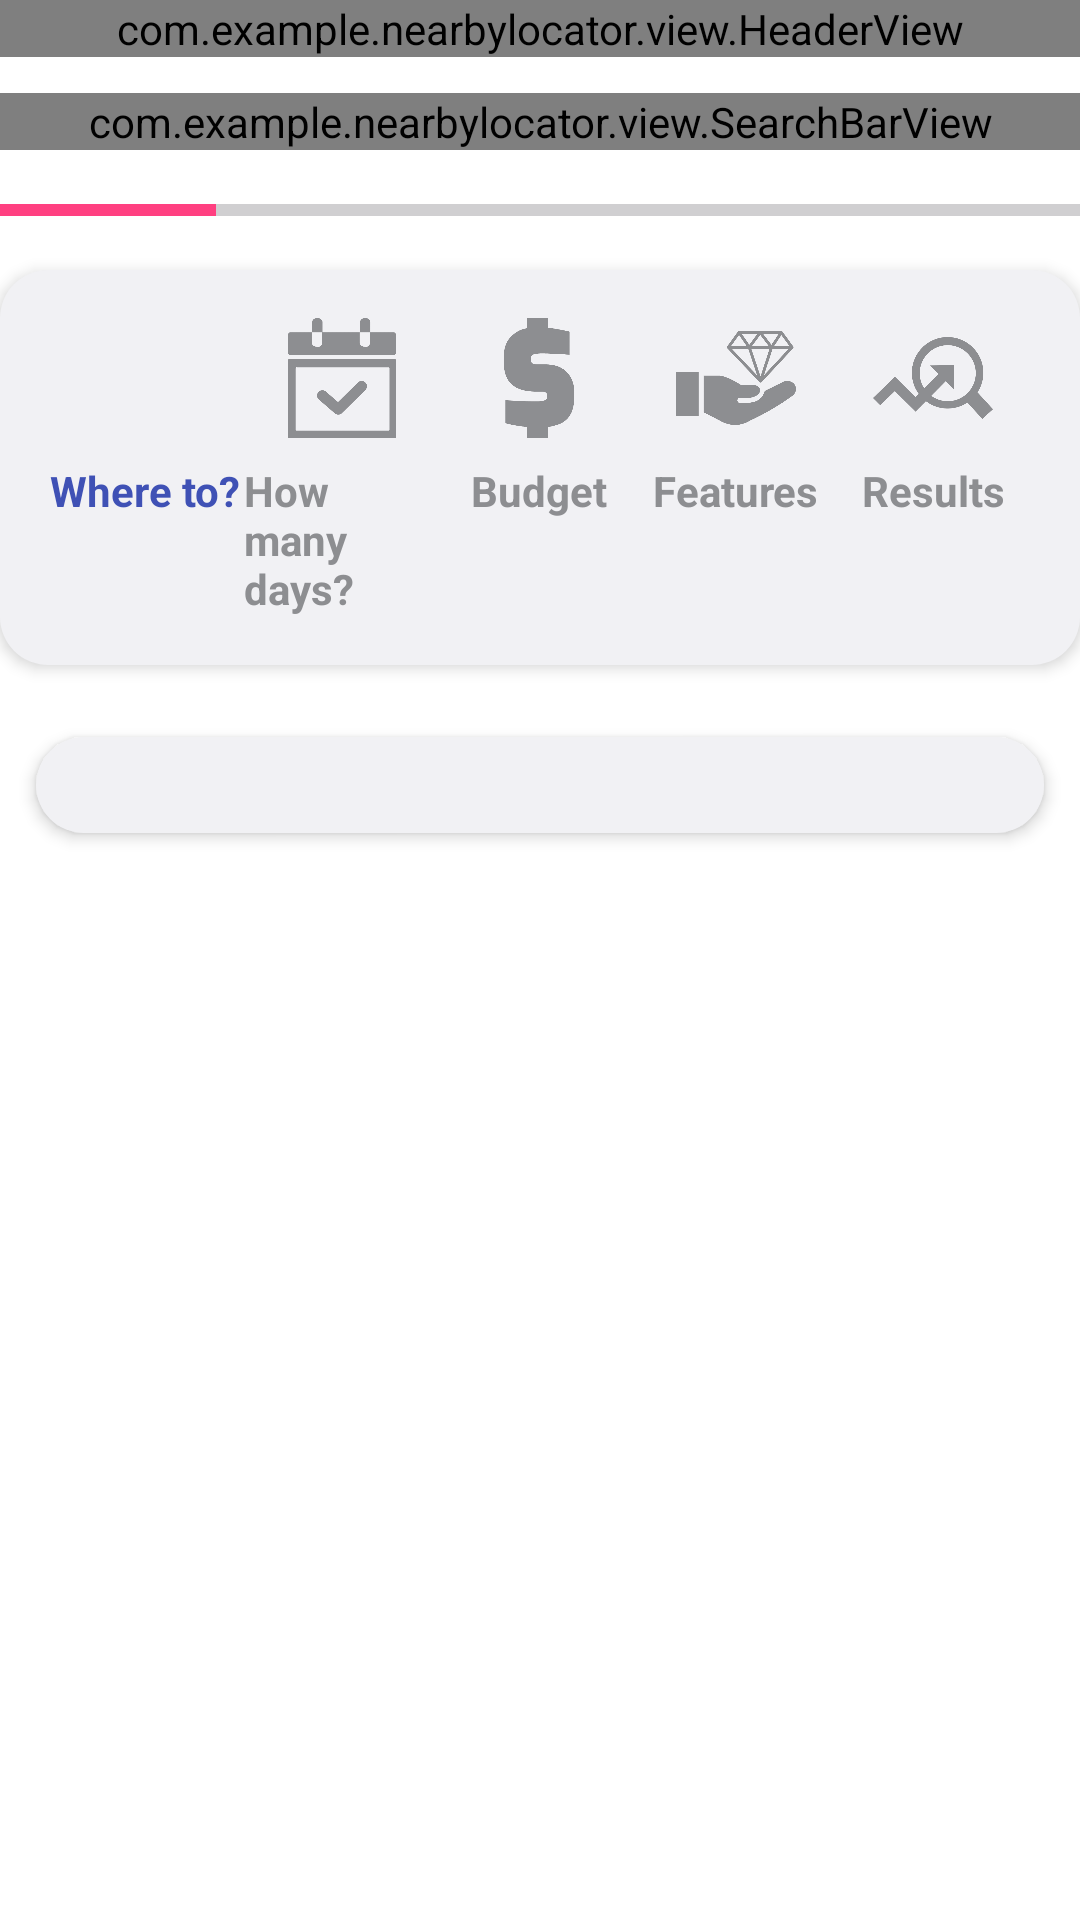

Point at icon controls on the screen. Image size 1080px×1920px, points as point (x, y).
calender: point (342, 378)
dollar: point (539, 378)
